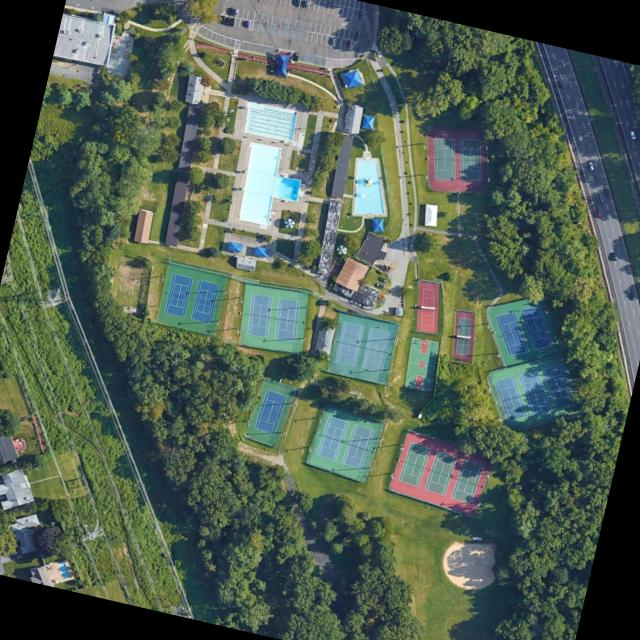small-vehicle: (628, 129, 637, 139), (219, 15, 227, 24), (377, 276, 387, 283), (376, 282, 385, 289), (292, 53, 299, 61), (588, 161, 594, 170), (233, 8, 239, 17), (345, 40, 351, 49), (331, 36, 337, 45), (598, 193, 603, 203), (557, 80, 563, 88), (304, 0, 310, 8), (353, 32, 359, 40), (294, 0, 300, 7), (244, 20, 250, 27), (611, 252, 616, 260), (357, 10, 362, 18), (597, 209, 601, 218), (631, 292, 635, 300), (230, 17, 234, 25)
